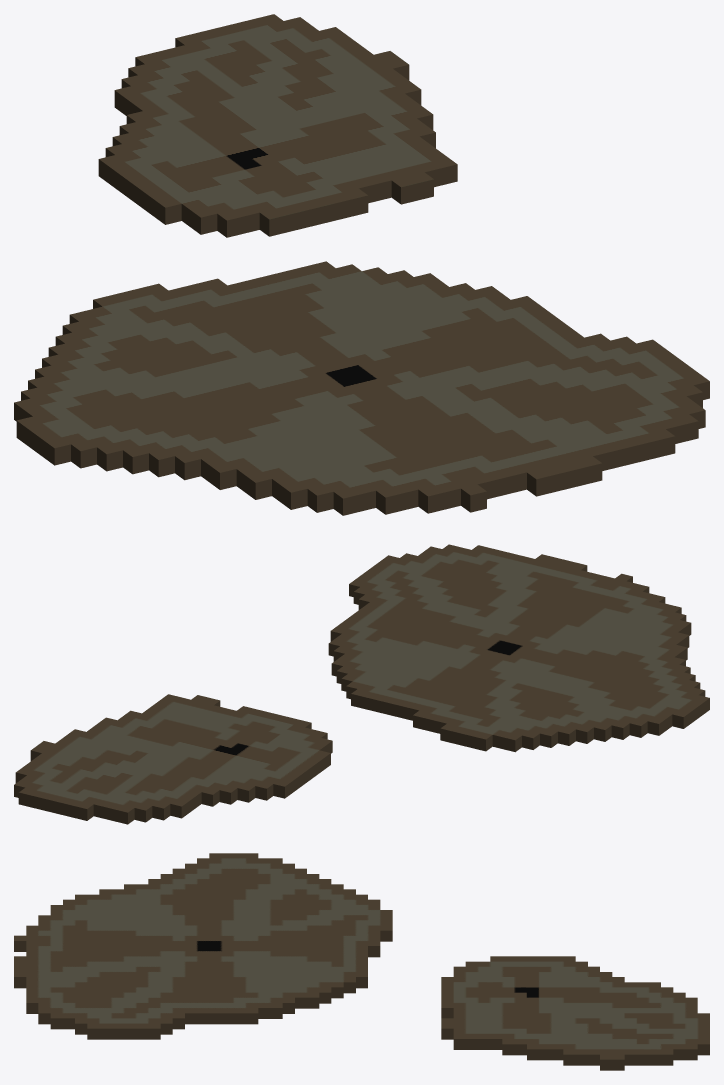
File: ground_hole_2.glb
The picture shows the model from 3 angles, top to bottom: view 1: azimuth 30°, elevation 25°; view 2: azimuth 150°, elevation 25°; view 3: azimuth 270°, elevation 25°; orthographic projection. The views are drawn at different scales.
Visible parts, largest first — view 1: ground_hole_2; view 2: ground_hole_2; view 3: ground_hole_2.
Part boxes in pixels (<box>): ground_hole_2: <box>14,14,709,515</box>; ground_hole_2: <box>14,544,709,824</box>; ground_hole_2: <box>14,853,709,1070</box>.
Bounding box in the file's own units: 4 × 0.1 × 5.7.
Materials: 1 (1 with a texture image).
